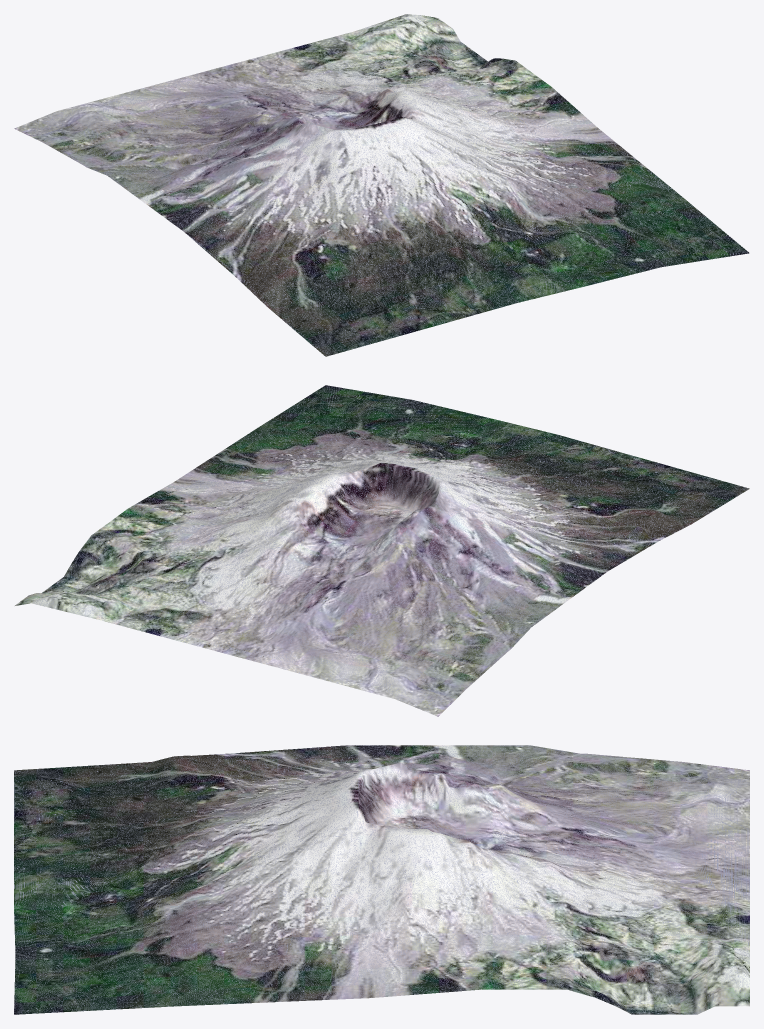
3 renders of one model, top to bottom at view 1: azimuth 30°, elevation 25°; view 2: azimuth 150°, elevation 25°; view 3: azimuth 270°, elevation 25°, orthographic. The views are drawn at different scales.
Visible parts, largest first — view 1: SketchUp; view 2: SketchUp; view 3: SketchUp.
Boxes of the visible parts, x1,y1,x2,y2 form: SketchUp: [14, 14, 749, 356]; SketchUp: [15, 385, 749, 716]; SketchUp: [14, 745, 749, 1014].
Size of the model in its own units: 376 by 478 by 66.
Materials: 2 (1 with a texture image).
